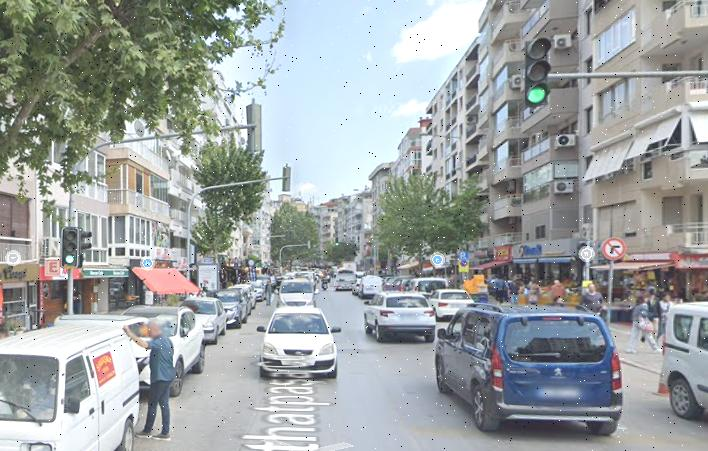greenlight: (524, 34, 550, 108), (61, 226, 78, 267), (334, 236, 339, 246)
rightturnsareforbidden: (603, 238, 626, 260)
